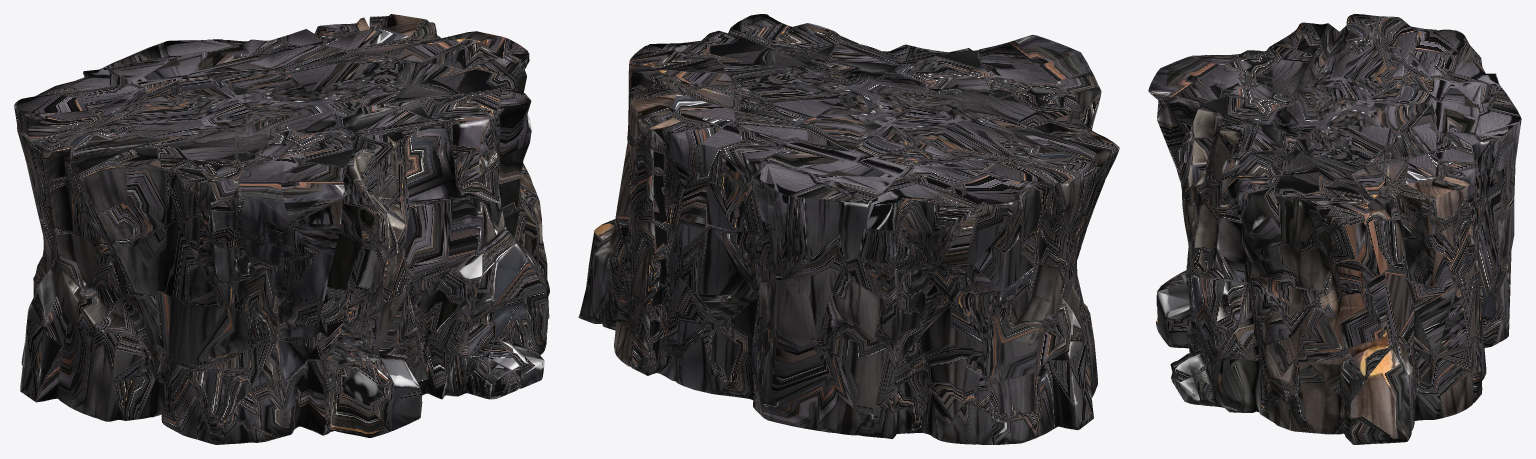
The model's file is stump.glb.
3 renders of one model, left to right at view 1: azimuth 30°, elevation 25°; view 2: azimuth 150°, elevation 25°; view 3: azimuth 270°, elevation 25°, orthographic. The views are drawn at different scales.
Visible parts, largest first — view 1: Mesh_0; view 2: Mesh_0; view 3: Mesh_0.
Boxes of the visible parts, x1=… form: Mesh_0: x1=14, y1=14, x2=549, y2=444; Mesh_0: x1=578, y1=14, x2=1119, y2=444; Mesh_0: x1=1148, y1=14, x2=1521, y2=444.
Size of the model in its own units: 1.9 by 0.9154 by 1.41.
1 material, 1 textured.
